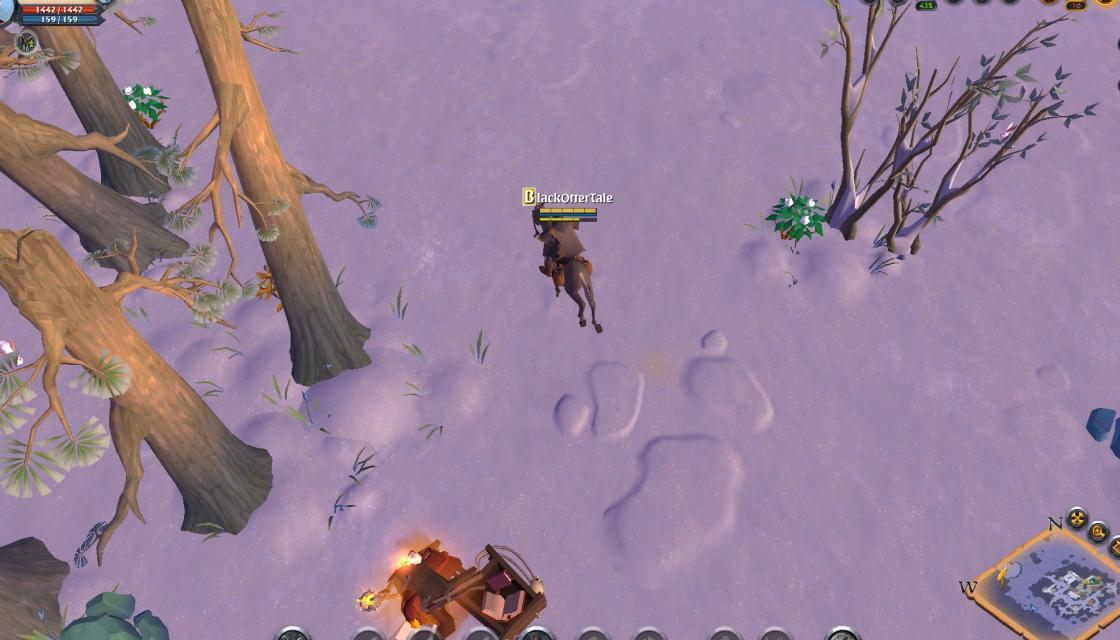sandstone: (29, 590, 172, 640)
